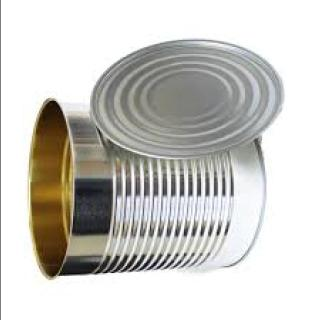Anorganik: (20, 98, 266, 278), (85, 36, 284, 154)
